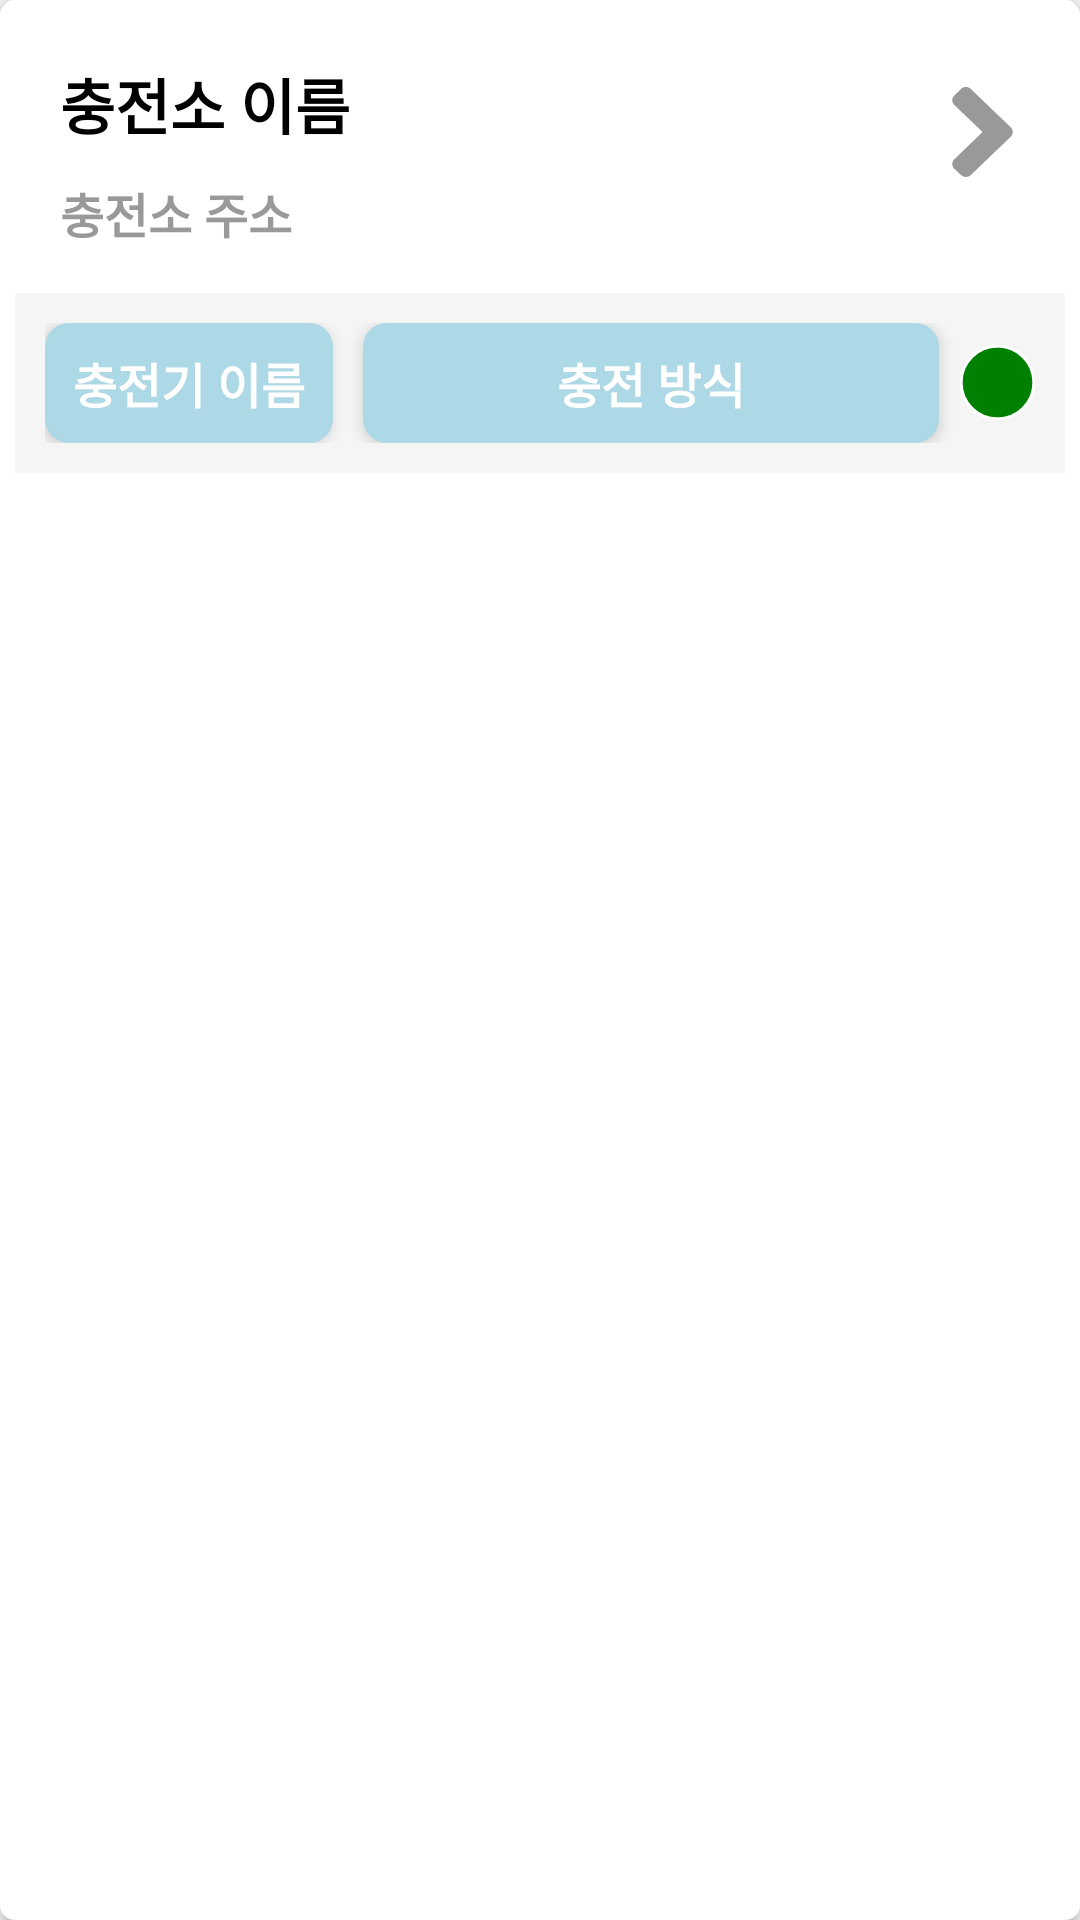

Point at icon controls on the screen. Image size 1080 x 1920, points as (x=x, y=y).
angle right: (x=982, y=132)
